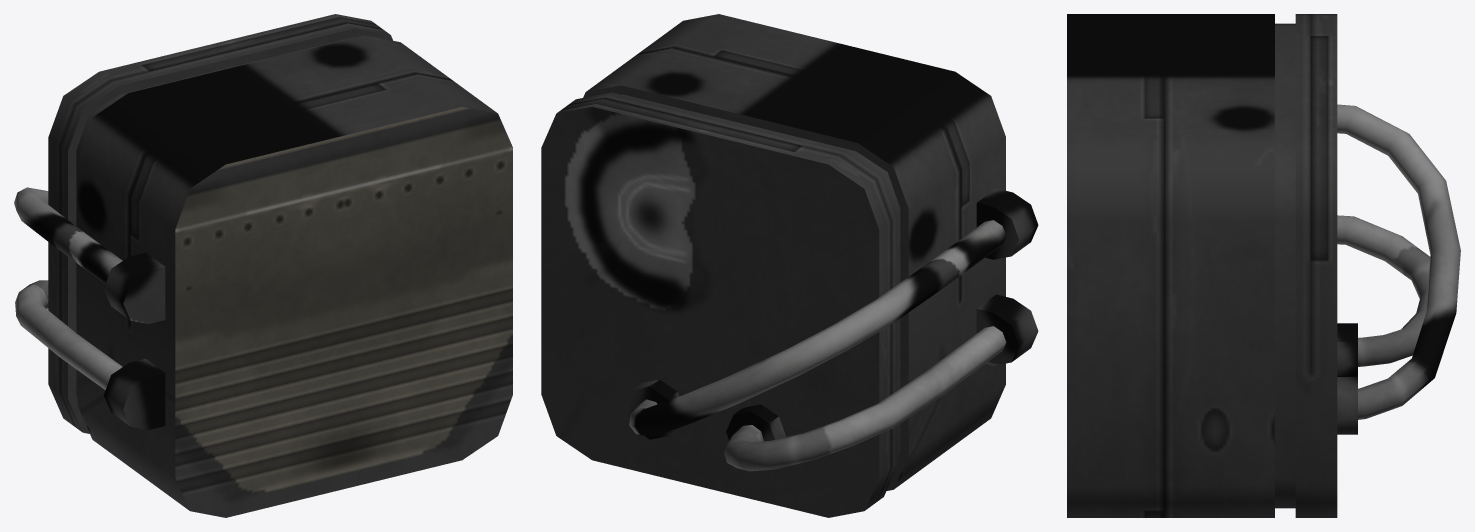
File: battery.fbx
3 views of the same model, side by side, from view 1: azimuth 30°, elevation 25°; view 2: azimuth 150°, elevation 25°; view 3: azimuth 270°, elevation 25° (orthographic). The views are drawn at different scales.
Visible parts, largest first — view 1: m; view 2: m; view 3: m.
Part boxes in pixels (box(x1,y1,x2,y2)): m: box(14, 14, 512, 517); m: box(541, 14, 1038, 517); m: box(1067, 14, 1460, 517).
Size of the model in its own units: 0.2813 by 0.25 by 0.2368.
